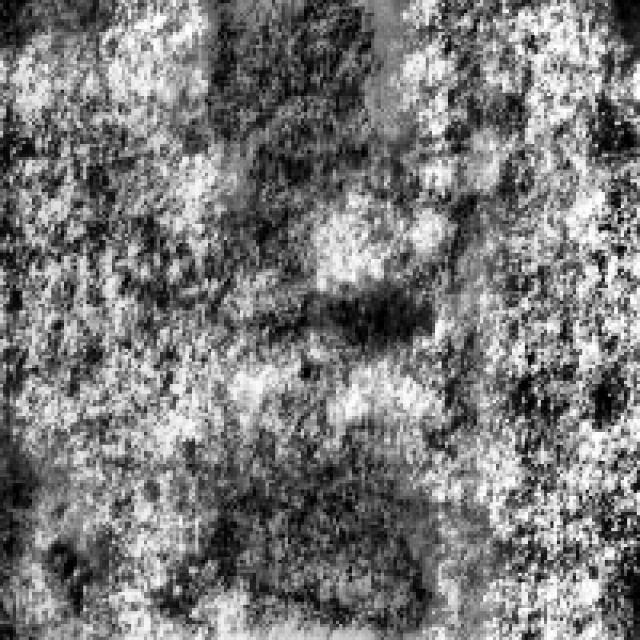Scratches: (195, 0, 416, 362), (195, 471, 445, 634)
